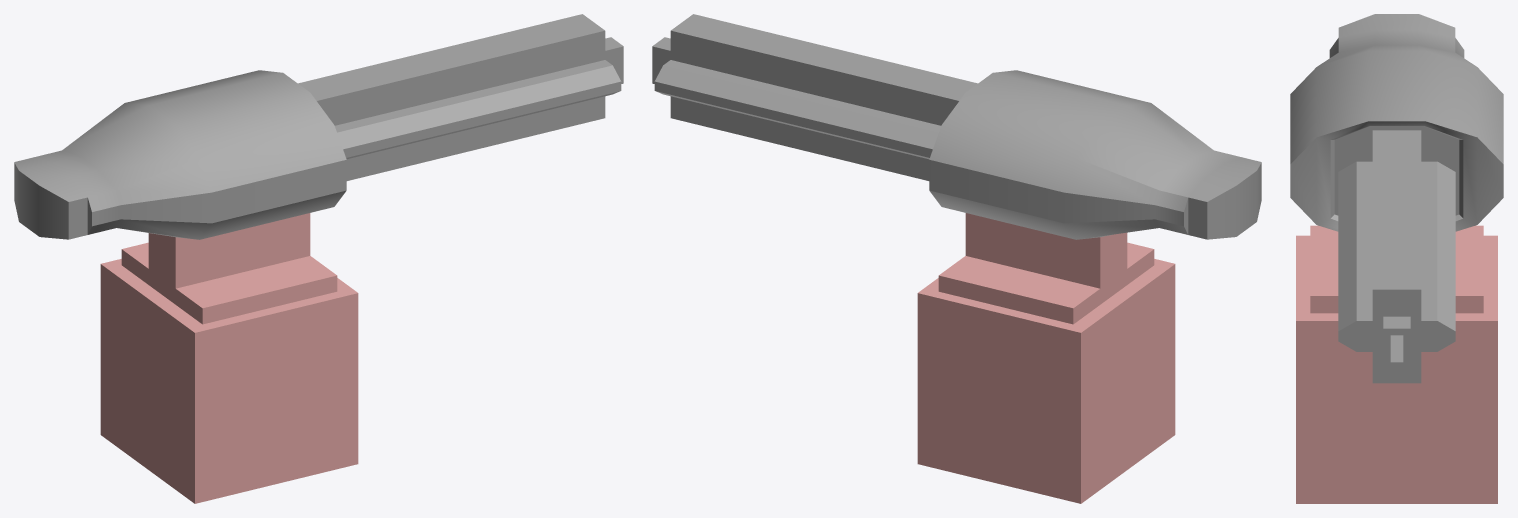
File: Turret 1.fbx
3 renders of one model, left to right at view 1: azimuth 30°, elevation 25°; view 2: azimuth 150°, elevation 25°; view 3: azimuth 270°, elevation 25°, orthographic. The views are drawn at different scales.
Parts seen in each view (by area): view 1: Turret, TurretBody; view 2: Turret, TurretBody; view 3: Turret, TurretBody.
Part boxes in pixels (x1,y1,x2,y2): Turret: (14,14,623,239); TurretBody: (100,213,358,503); Turret: (652,14,1261,239); TurretBody: (917,213,1175,503); Turret: (1290,14,1503,383); TurretBody: (1296,225,1497,503).
Bounding box in the file's own units: 43.59 × 24.81 × 12.81.
